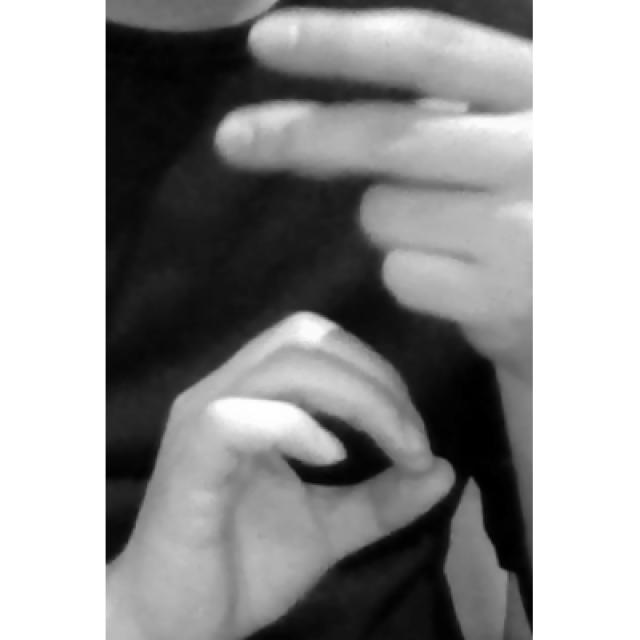O--: (105, 0, 532, 638)
